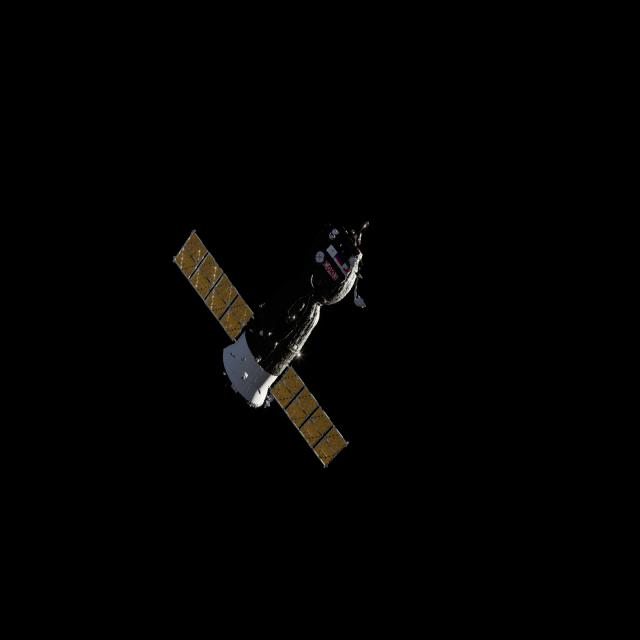Satellites revolving around earth: (170, 227, 352, 470)
